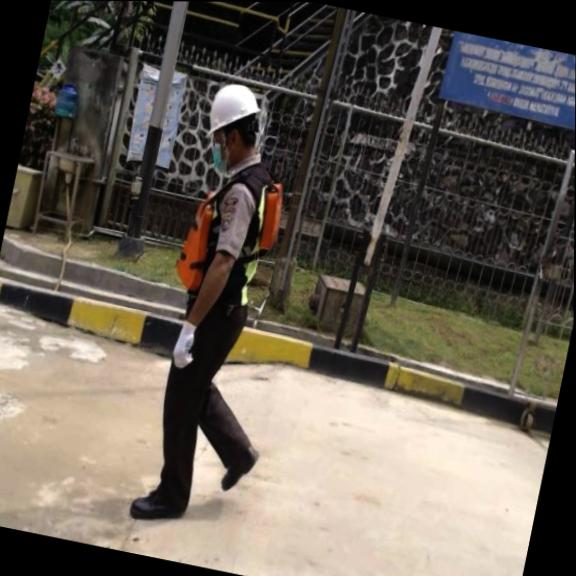safety_vest: (164, 157, 291, 308)
